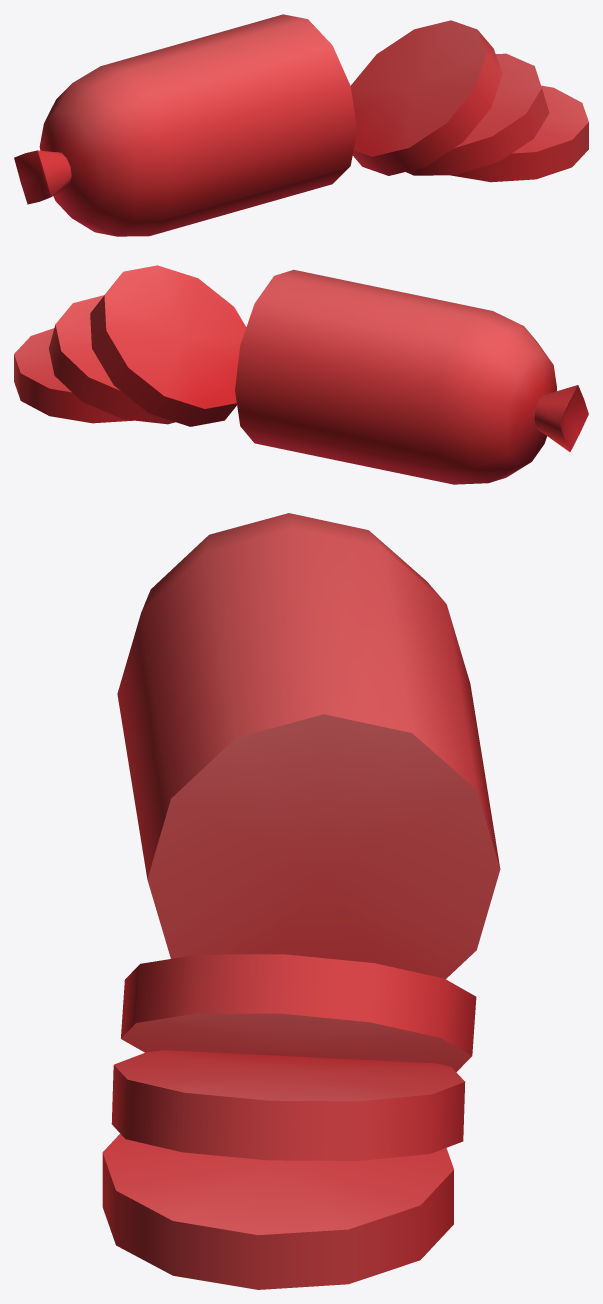
Rendered from food_ingredient_pepperoni_chopped.obj.
The picture shows the model from 3 angles, top to bottom: view 1: azimuth 30°, elevation 25°; view 2: azimuth 150°, elevation 25°; view 3: azimuth 270°, elevation 25°; orthographic projection. The views are drawn at different scales.
Parts seen in each view (by area): view 1: food_ingredient_pepperoni_chopped_Cylinder.353; view 2: food_ingredient_pepperoni_chopped_Cylinder.353; view 3: food_ingredient_pepperoni_chopped_Cylinder.353.
Part boxes in pixels (box(x1,y1,x2,y2)): food_ingredient_pepperoni_chopped_Cylinder.353: box(14, 14, 588, 236); food_ingredient_pepperoni_chopped_Cylinder.353: box(14, 265, 588, 484); food_ingredient_pepperoni_chopped_Cylinder.353: box(102, 513, 500, 1289).
Size of the model in its own units: 1.43 by 0.4042 by 0.4497.
1 material, 1 textured.
